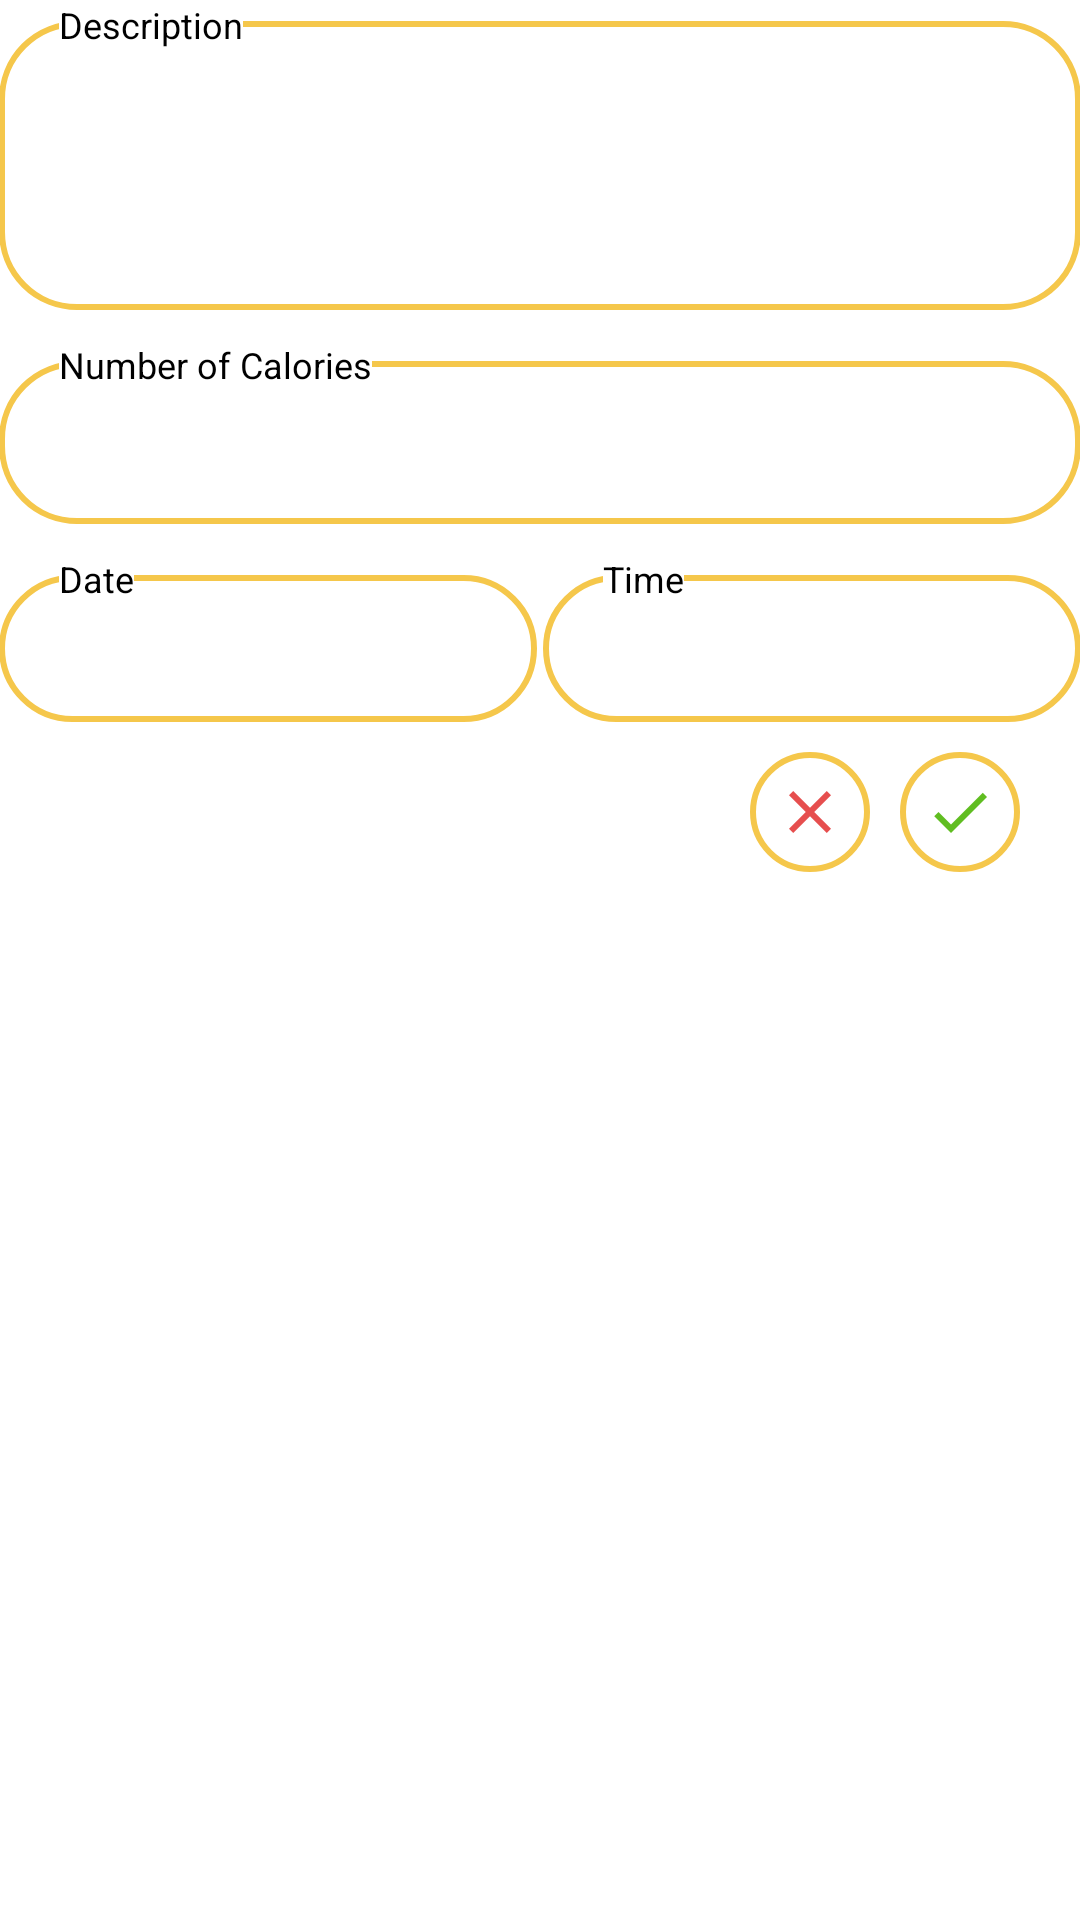

Locate icon controls on the screen. Image size 1080×1920, boxes as (x1, y1, x2, y2).
Cancel: (750, 752, 870, 872)
Confirm: (900, 752, 1020, 872)
